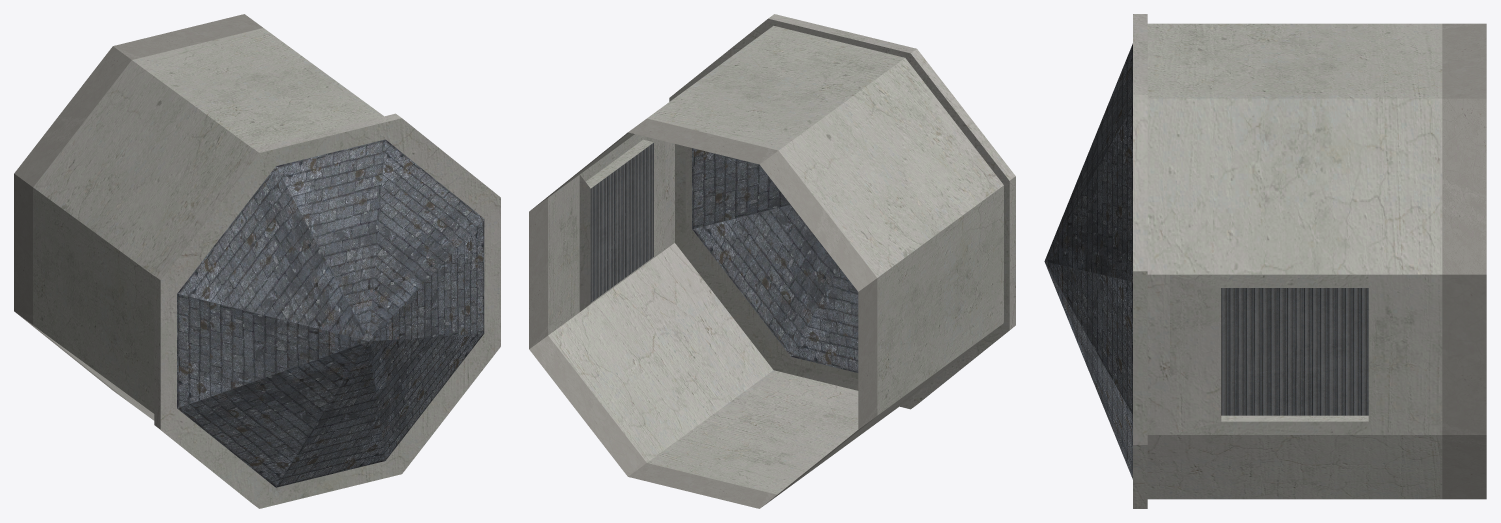
File: nt_2020_vista_kiosk_04_LOD0.obj
3 views of the same model, side by side, from view 1: azimuth 30°, elevation 25°; view 2: azimuth 150°, elevation 25°; view 3: azimuth 270°, elevation 25° (orthographic). The views are drawn at different scales.
Parts seen in each view (by area): view 1: mtl_nt_2020_plaster_whitewall_01, mp_b_art_roof_brick_slate01, al_muntaha_concrete; view 2: mtl_nt_2020_plaster_whitewall_01, mp_b_art_roof_brick_slate01, al_muntaha_concrete, me_door_rollup1; view 3: mtl_nt_2020_plaster_whitewall_01, al_muntaha_concrete, mp_b_art_roof_brick_slate01, me_door_rollup1.
Part boxes in pixels (box(x1,y1,x2,y2)): mtl_nt_2020_plaster_whitewall_01: box(33, 28, 500, 508); mp_b_art_roof_brick_slate01: box(177, 139, 484, 487); al_muntaha_concrete: box(14, 14, 262, 403); mtl_nt_2020_plaster_whitewall_01: box(548, 14, 1015, 494); mp_b_art_roof_brick_slate01: box(692, 148, 858, 372); al_muntaha_concrete: box(529, 118, 877, 508); me_door_rollup1: box(590, 142, 653, 302); mtl_nt_2020_plaster_whitewall_01: box(1133, 14, 1442, 508); al_muntaha_concrete: box(1442, 23, 1486, 499); mp_b_art_roof_brick_slate01: box(1044, 43, 1132, 479); me_door_rollup1: box(1221, 288, 1368, 415).
Bounding box in the file's own units: 630 × 630 × 610.
